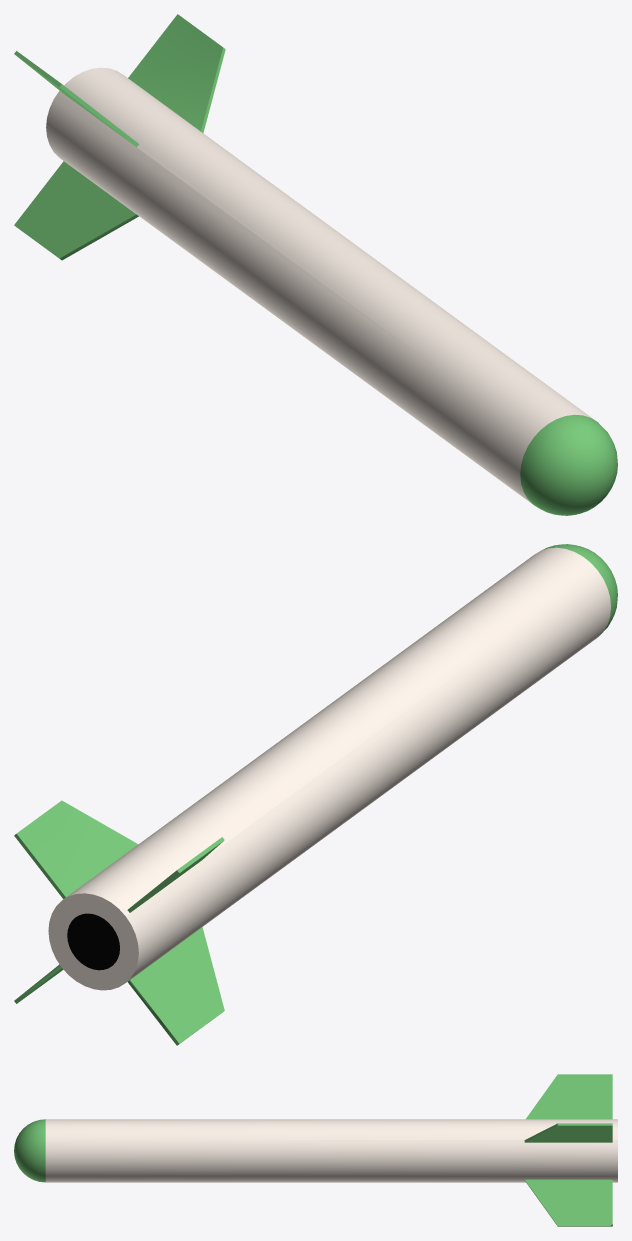
The model's file is playerMissile.obj.
The picture shows the model from 3 angles, top to bottom: view 1: azimuth 30°, elevation 25°; view 2: azimuth 150°, elevation 25°; view 3: azimuth 270°, elevation 25°; orthographic projection. The views are drawn at different scales.
Parts seen in each view (by area): view 1: 球; view 2: 球; view 3: 球.
Boxes of the visible parts, left/top/right/bottom form: 球: left=14, top=14, right=617, bottom=515; 球: left=14, top=544, right=617, bottom=1045; 球: left=14, top=1074, right=617, bottom=1226.
Bounding box in the file's own units: 0.7175 × 0.7283 × 3.74.
1 material, 1 textured.
